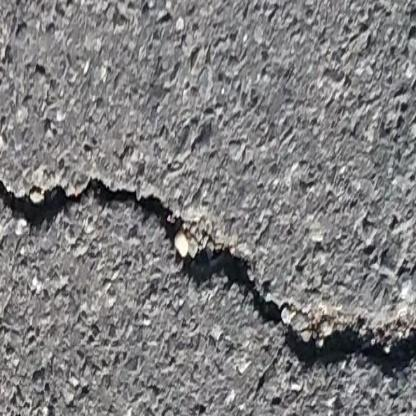Cracks: (0, 161, 416, 385)
